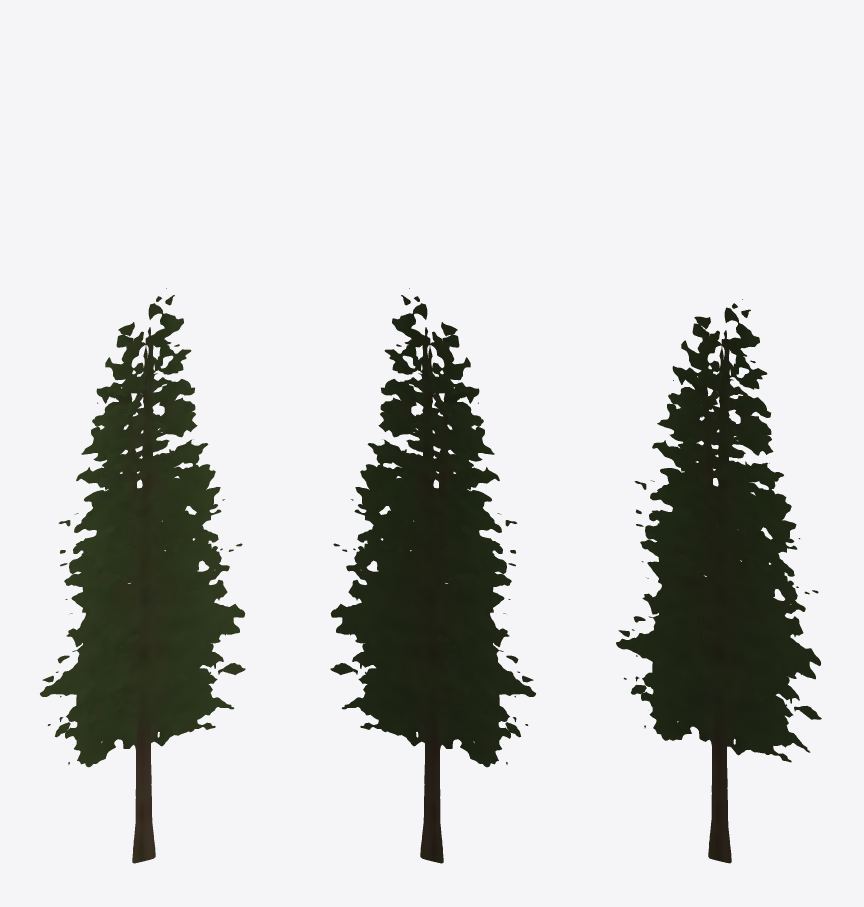
File: sugi.lite.glb
The picture shows the model from 3 angles, left to right: view 1: azimuth 30°, elevation 25°; view 2: azimuth 150°, elevation 25°; view 3: azimuth 330°, elevation 25°; orthographic projection.
Visible parts, largest first — view 1: v0_imp, v2_imp, v1_imp; view 2: v0_imp, v1_imp, v2_imp; view 3: v0_imp, v1_imp, v2_imp.
Boxes of the visible parts, x1,y1,x2,y2 form: v0_imp: [47, 288, 245, 862]; v2_imp: [40, 318, 242, 863]; v1_imp: [42, 373, 245, 862]; v0_imp: [330, 288, 528, 862]; v1_imp: [330, 372, 533, 862]; v2_imp: [333, 328, 535, 863]; v0_imp: [623, 299, 820, 862]; v1_imp: [618, 366, 821, 863]; v2_imp: [616, 323, 818, 861].
Size of what is drawn, in the model's own units: 8.95 by 26.86 by 0.
Materials: 1 (1 with a texture image).
